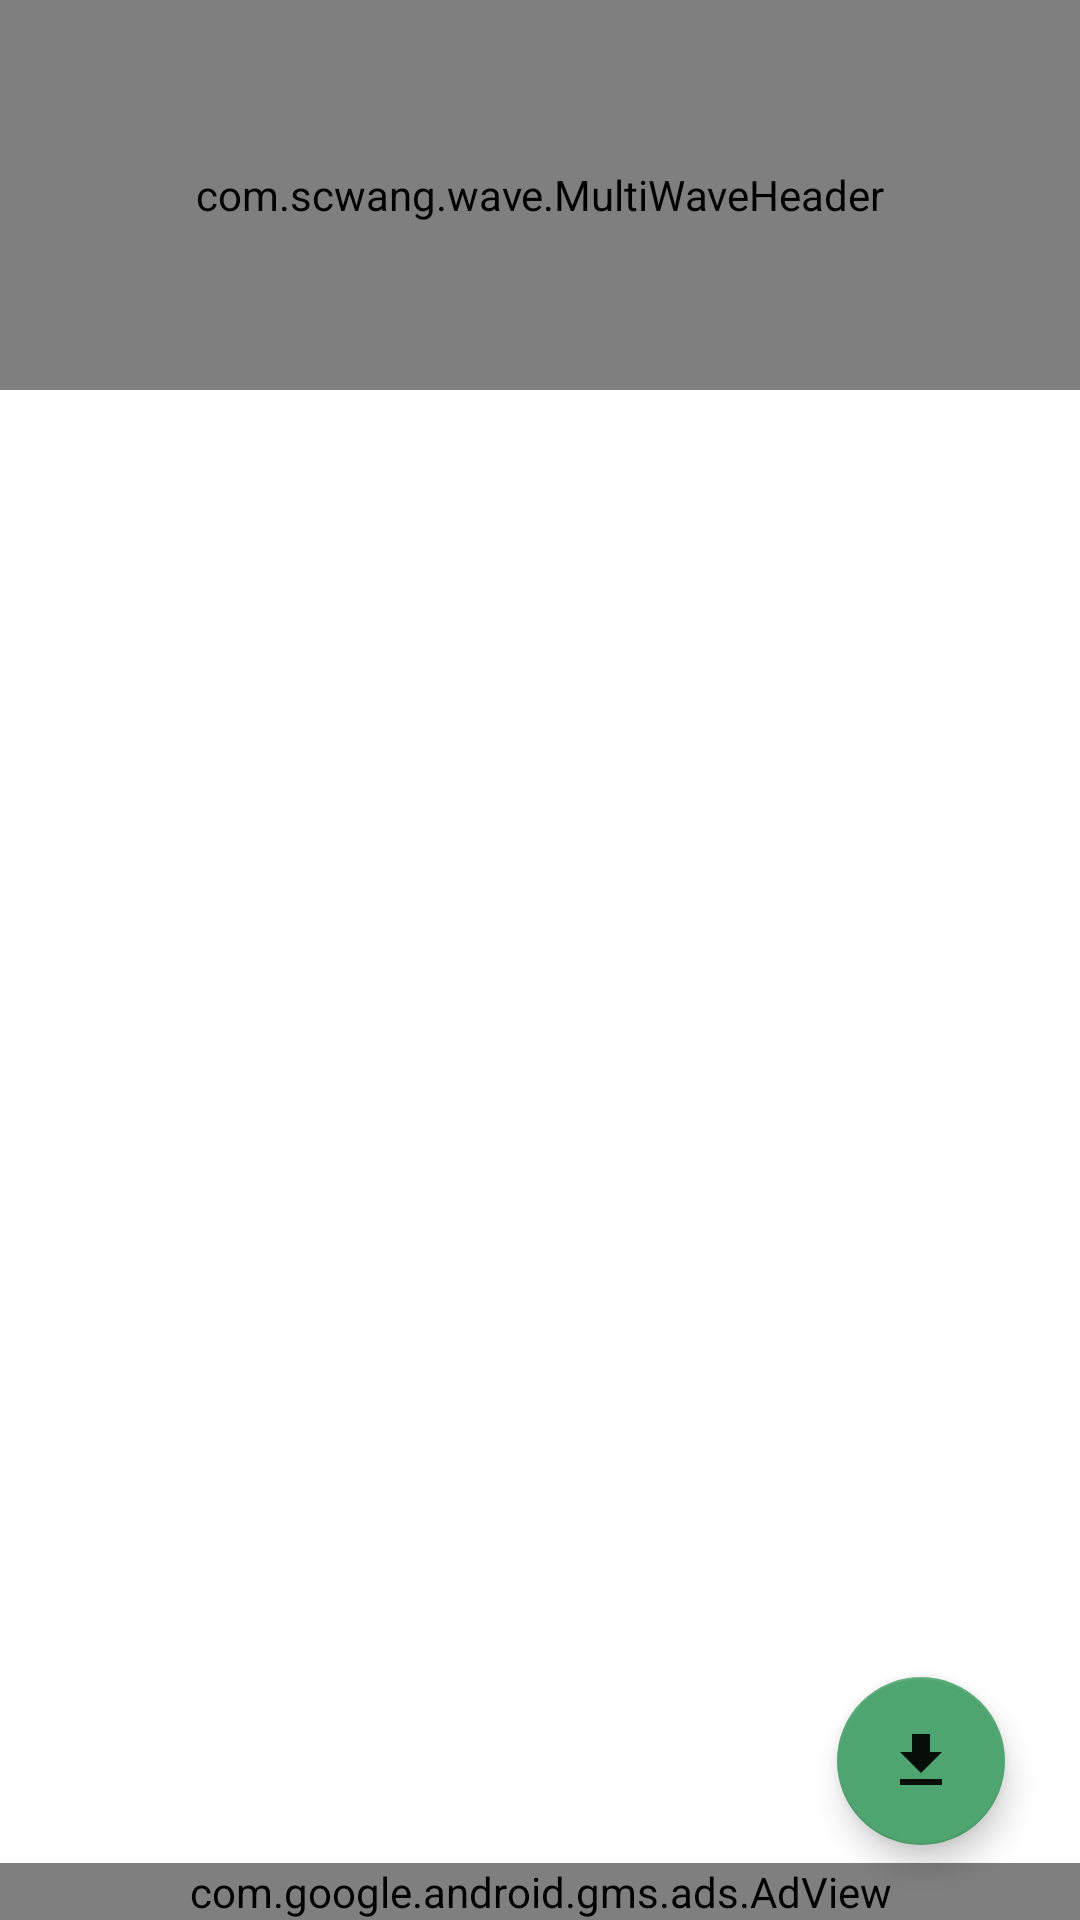

Icon click points for this 1080 x 1920 phone screenshot, format point (x, y):
get app: point (921, 1761)
